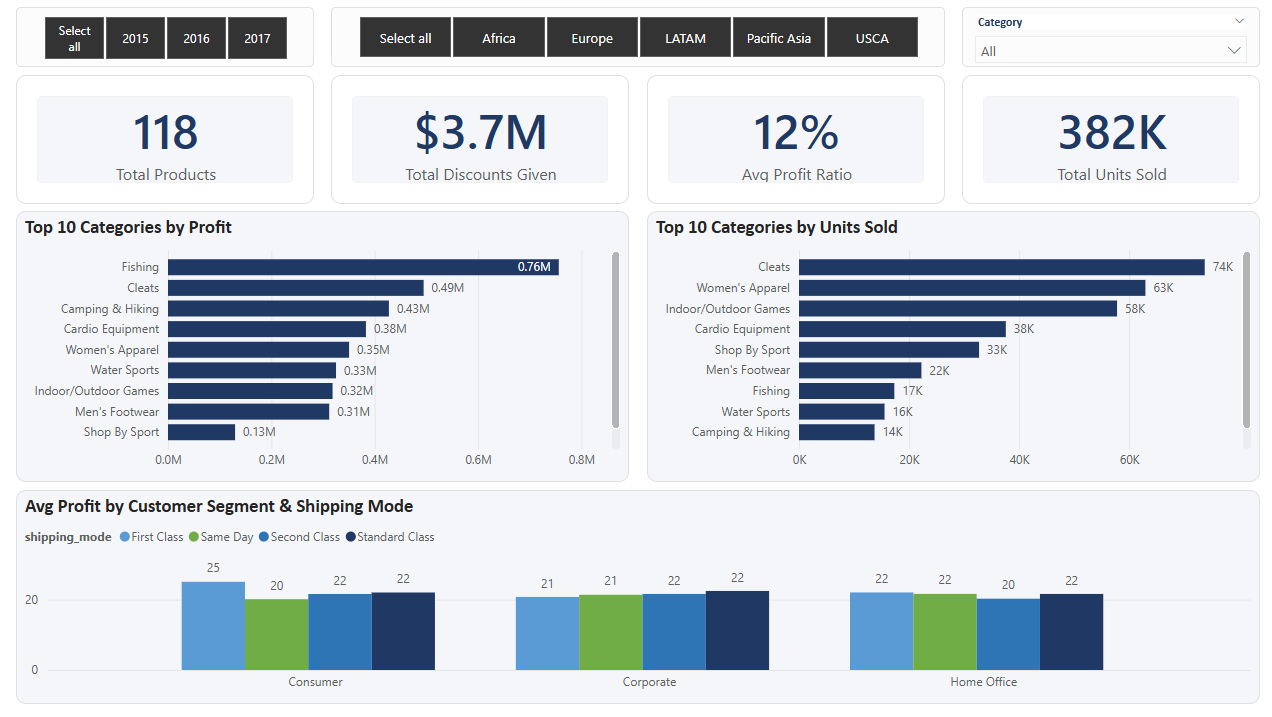

Layout of this report page (visuals, bound fields, positions):
{"tool":"powerbi","page":{"name":"Product Analysis","canvas":[1280,720],"ordinal":2},"visuals":[{"type":"group","id":"g1","title":"Group 1","box":[19,75,1244,629],"z":0},{"type":"cardVisual","fields":{"Data":["Count(public orders.product_name)"]},"box":[19,75,298.2,128.7],"z":0,"group":"g1"},{"type":"slicer","fields":{"Values":["public orders.order_year"]},"box":[19,7,298,60],"z":1000},{"type":"clusteredBarChart","title":"Top 10 Categories by Profit","fields":{"Y":["Sum(public orders.order_profit_per_order)"],"Category":["public orders.category_name"]},"box":[19,210.8,613.5,271.6],"z":1000,"group":"g1"},{"type":"slicer","fields":{"Values":["public orders.category_name"]},"box":[965,7,298,60],"z":2000},{"type":"cardVisual","fields":{"Data":["Sum(public orders.order_item_discount)"]},"box":[334.3,75,298.2,128.7],"z":2000,"group":"g1"},{"type":"slicer","fields":{"Values":["public orders.market"]},"box":[334,7,614,60],"z":3000},{"type":"cardVisual","fields":{"Data":["Avg(public orders.order_item_profit_ratio)"]},"box":[649.5,75,298.2,128.7],"z":3000,"group":"g1"},{"type":"clusteredBarChart","title":"Top 10 Categories by Units Sold","fields":{"Category":["public orders.category_name"],"Y":["Sum(public orders.order_item_quantity)"]},"box":[649.5,210.8,613.5,271.6],"z":4000,"group":"g1"},{"type":"cardVisual","fields":{"Data":["Sum(public orders.order_item_quantity)"]},"box":[964.8,75,298.2,128.7],"z":5000,"group":"g1"},{"type":"clusteredColumnChart","title":"Avg Profit by Customer Segment & Shipping Mode","fields":{"Category":["public orders.customer_segment"],"Y":["Avg(public orders.order_profit_per_order)"],"Series":["public orders.shipping_mode"]},"box":[19,489.6,1244,214.4],"z":6000,"group":"g1"}]}

Visuals, with their boxes in screenshot pixels (x1, y1, x2, y2), scaled from the page's 1280x720 canvas onto the 1272x717 screenshot:
"Group 1" group: 19 75 1255 701
cardVisual - Count(public orders.product_name): 19 75 315 203
slicer - public orders.order_year: 19 7 315 67
"Top 10 Categories by Profit" clusteredBarChart: 19 210 629 480
slicer - public orders.category_name: 959 7 1255 67
cardVisual - Sum(public orders.order_item_discount): 332 75 629 203
slicer - public orders.market: 332 7 942 67
cardVisual - Avg(public orders.order_item_profit_ratio): 645 75 942 203
"Top 10 Categories by Units Sold" clusteredBarChart: 645 210 1255 480
cardVisual - Sum(public orders.order_item_quantity): 959 75 1255 203
"Avg Profit by Customer Segment & Shipping Mode" clusteredColumnChart: 19 488 1255 701
